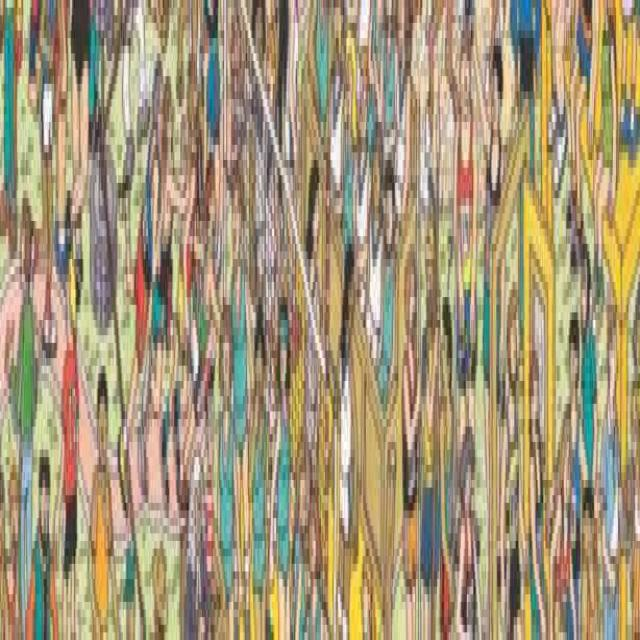waldo: (201, 350, 215, 472)
